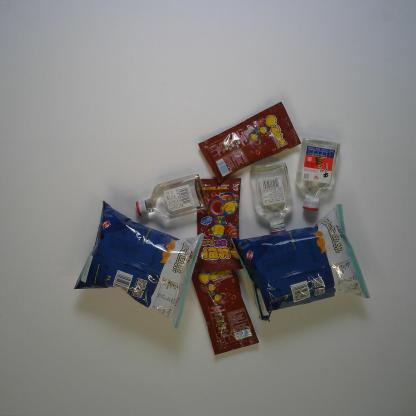Alcohol: (132, 172, 208, 222), (293, 134, 340, 214), (248, 160, 295, 236)
Candy: (196, 101, 302, 186), (190, 265, 261, 358), (192, 174, 244, 276)
Puffed Food: (70, 199, 206, 329), (228, 202, 373, 323)
